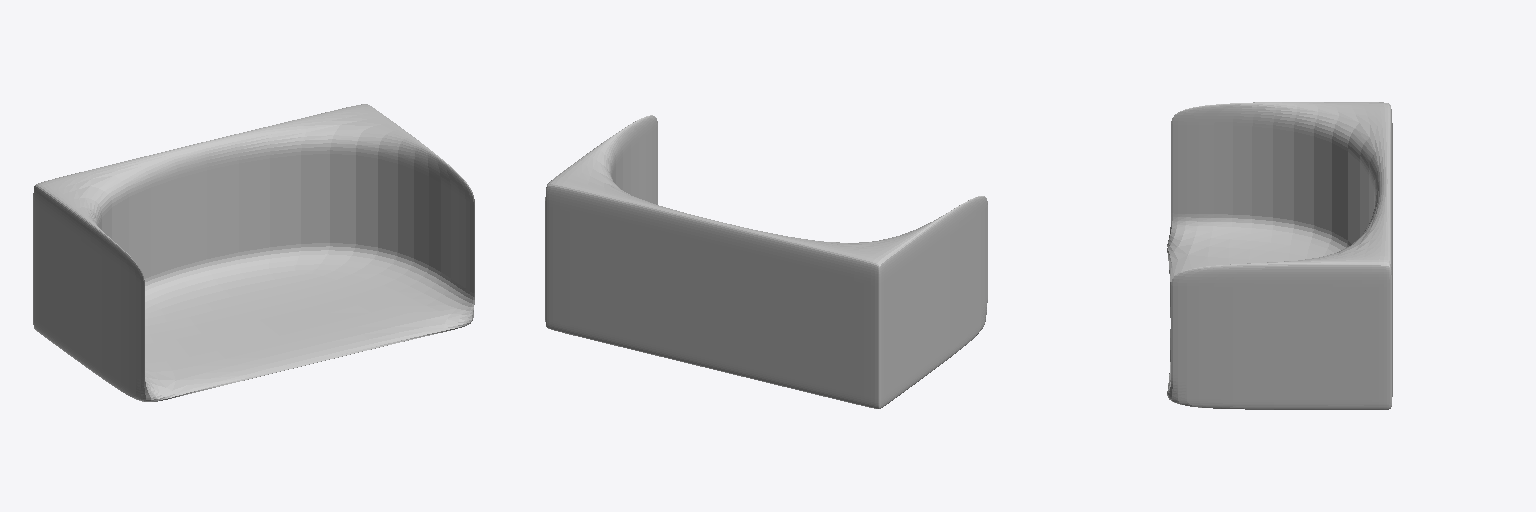
The model's file is basket.obj.
The picture shows the model from 3 angles: view 1: azimuth 30°, elevation 25°; view 2: azimuth 150°, elevation 25°; view 3: azimuth 270°, elevation 25°; orthographic projection.
Parts seen in each view (by area): view 1: pCube15; view 2: pCube15; view 3: pCube15.
Boxes of the visible parts, x1,y1,x2,y2 form: pCube15: [33, 104, 474, 401]; pCube15: [545, 115, 987, 408]; pCube15: [1167, 102, 1392, 409].
Size of the model in its own units: 1.94 by 0.8181 by 1.12.